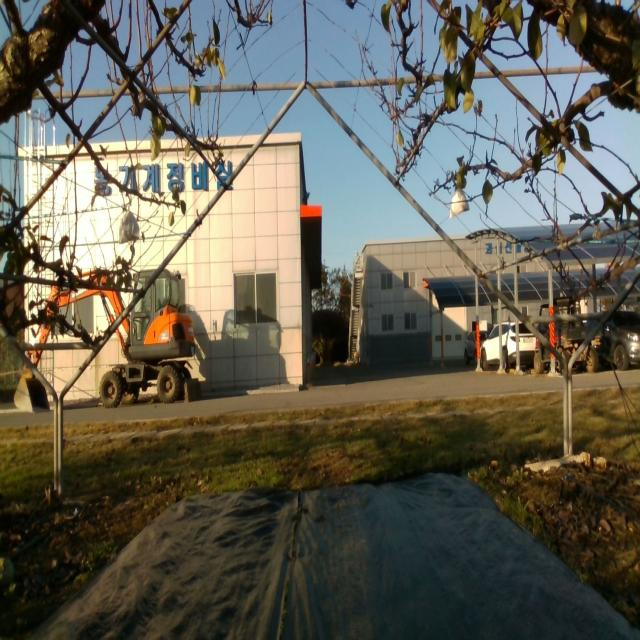pearbags: (118, 208, 140, 244), (449, 186, 470, 220)
